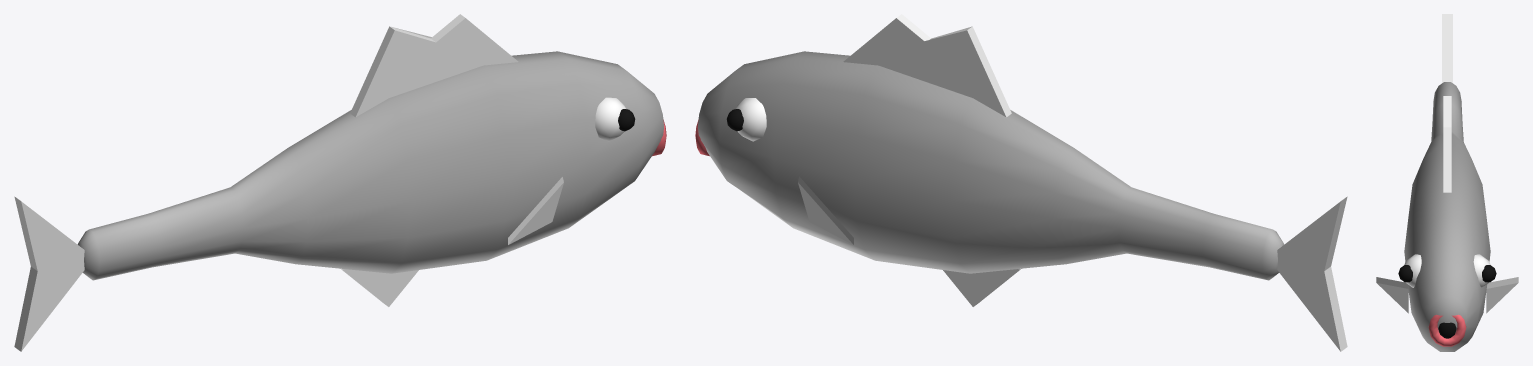
The model's file is knife_fish.glb.
3 views of the same model, side by side, from view 1: azimuth 30°, elevation 25°; view 2: azimuth 150°, elevation 25°; view 3: azimuth 270°, elevation 25° (orthographic). The views are drawn at different scales.
Parts seen in each view (by area): view 1: Blade, Handle, Eyes; view 2: Blade, Handle, Eyes; view 3: Blade, Handle, Pupils, Mouth, Eyes.
Boxes of the visible parts, left/top/right/bottom form: Blade: left=77, top=51, right=663, bottom=280; Handle: left=14, top=14, right=563, bottom=351; Eyes: left=595, top=97, right=625, bottom=141; Blade: left=698, top=51, right=1284, bottom=280; Handle: left=798, top=14, right=1347, bottom=351; Eyes: left=736, top=98, right=766, bottom=141; Blade: left=1404, top=82, right=1490, bottom=351; Handle: left=1376, top=14, right=1518, bottom=313; Pupils: left=1398, top=265, right=1496, bottom=338; Mouth: left=1428, top=314, right=1466, bottom=346; Eyes: left=1404, top=254, right=1490, bottom=287.
Bounding box in the file's own units: 0.5449 × 0.223 × 0.132.
